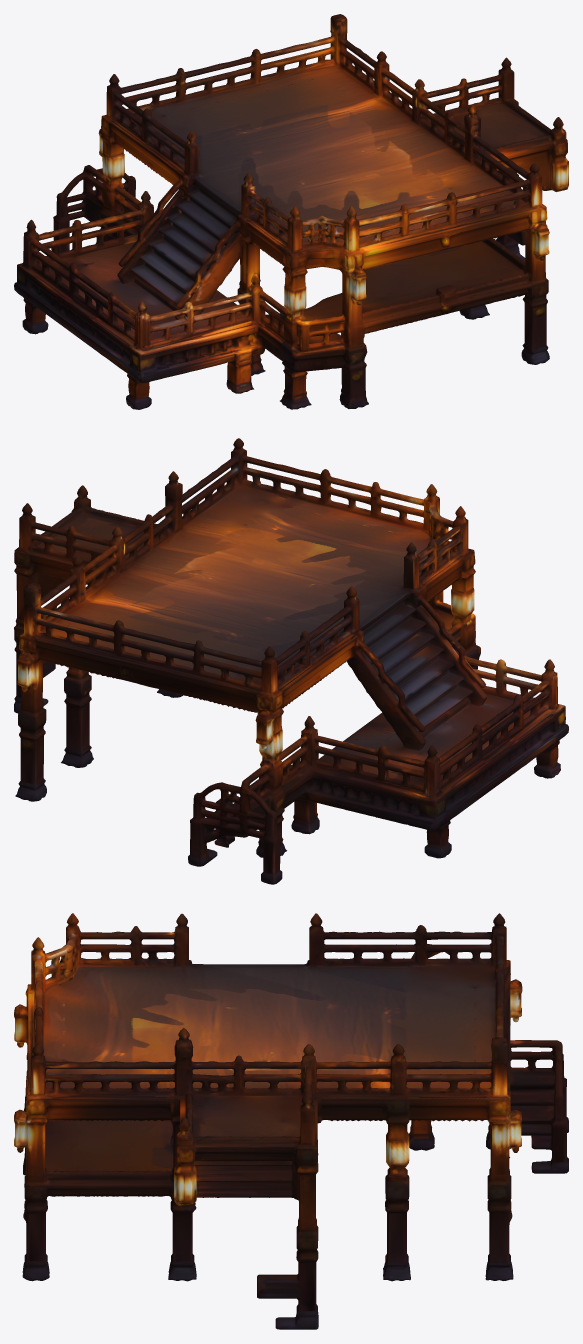
Rendered from DoubleStaresBase_Collision.fbx.
The picture shows the model from 3 angles, top to bottom: view 1: azimuth 30°, elevation 25°; view 2: azimuth 150°, elevation 25°; view 3: azimuth 270°, elevation 25°; orthographic projection. The views are drawn at different scales.
Visible parts, largest first — view 1: DoubleStaresBase_Collision; view 2: DoubleStaresBase_Collision; view 3: DoubleStaresBase_Collision.
Part boxes in pixels (box(x1,y1,x2,y2)): DoubleStaresBase_Collision: box(14, 14, 568, 409); DoubleStaresBase_Collision: box(14, 438, 568, 884); DoubleStaresBase_Collision: box(14, 913, 568, 1329).
Bounding box in the file's own units: 9.14 × 4.1 × 8.3.
Materials: 1 (1 with a texture image).
